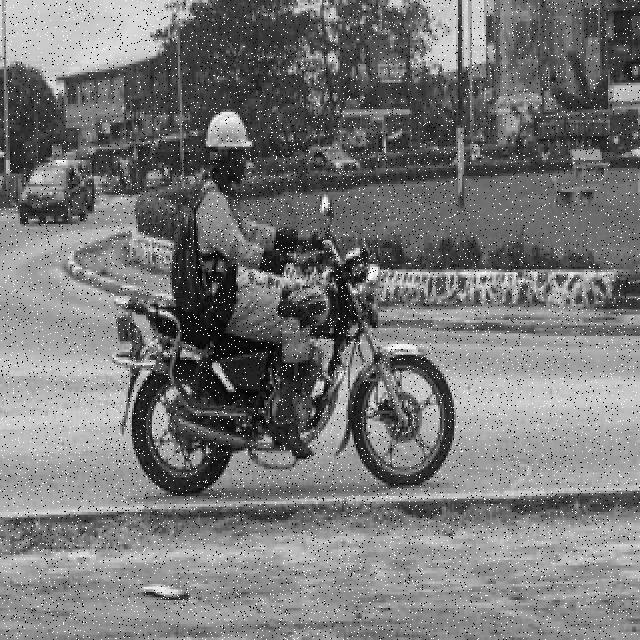Motorbike: (112, 111, 457, 499)
